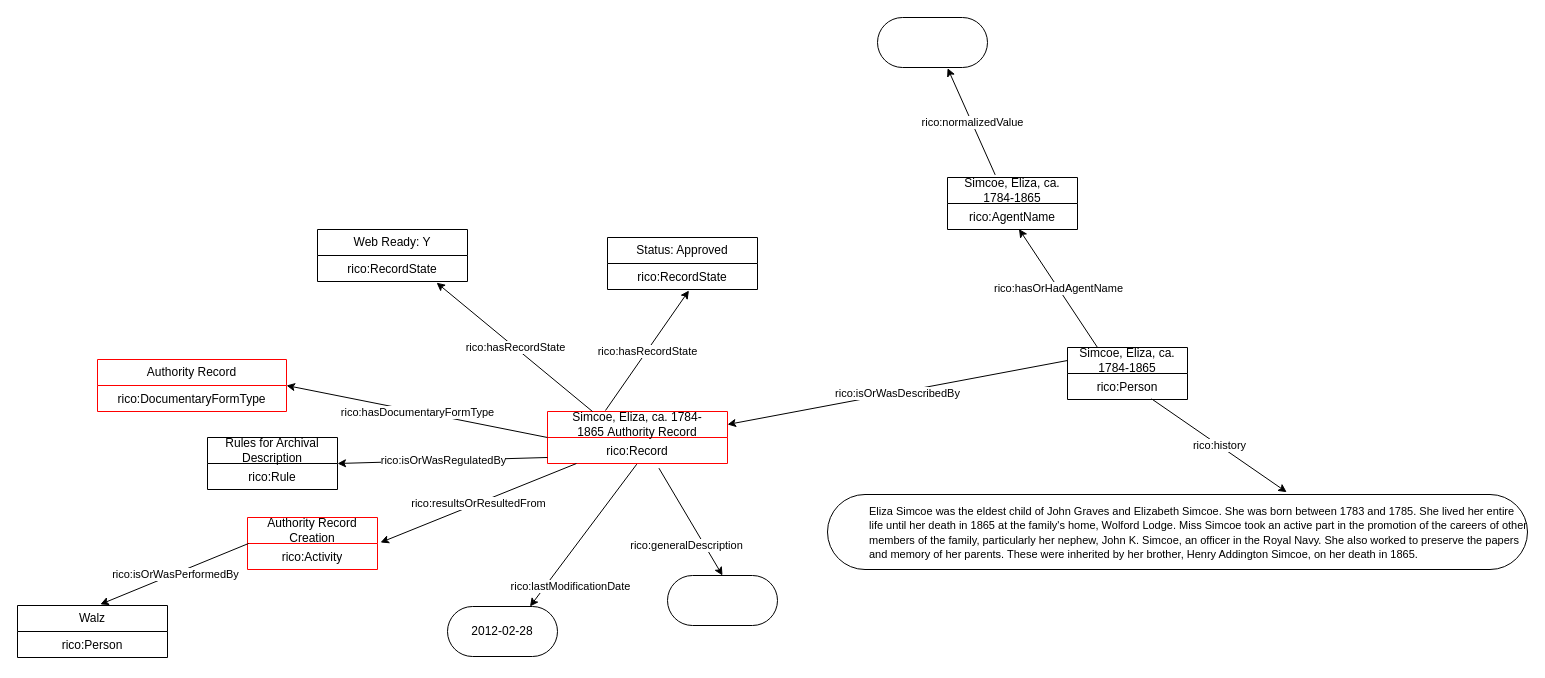
Image size: 1545x678. Some labels were removed from this diagram. The centre of each missing label's shape, as x and y in pixels:
Eliza Simcoe: (x=932, y=42)
Source Note: Archives of Ontario, fonds 47.: (x=722, y=600)
